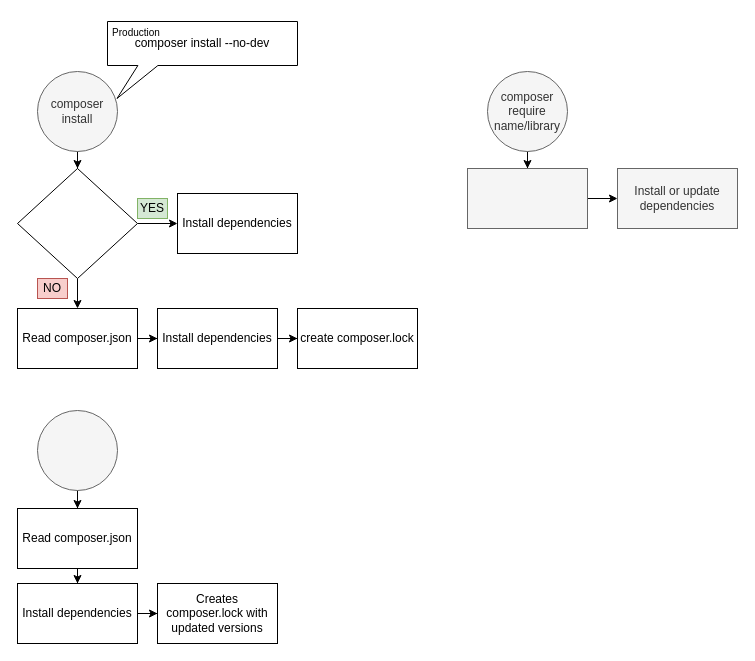
This 755x661 diagram has some shape labels left out. The centre of each missing label's shape, as x and y in pixels:
"composer update" belongs at point (77, 450).
"Is there any composer.lock ?" belongs at point (77, 223).
"Updates composer.json" belongs at point (527, 198).
